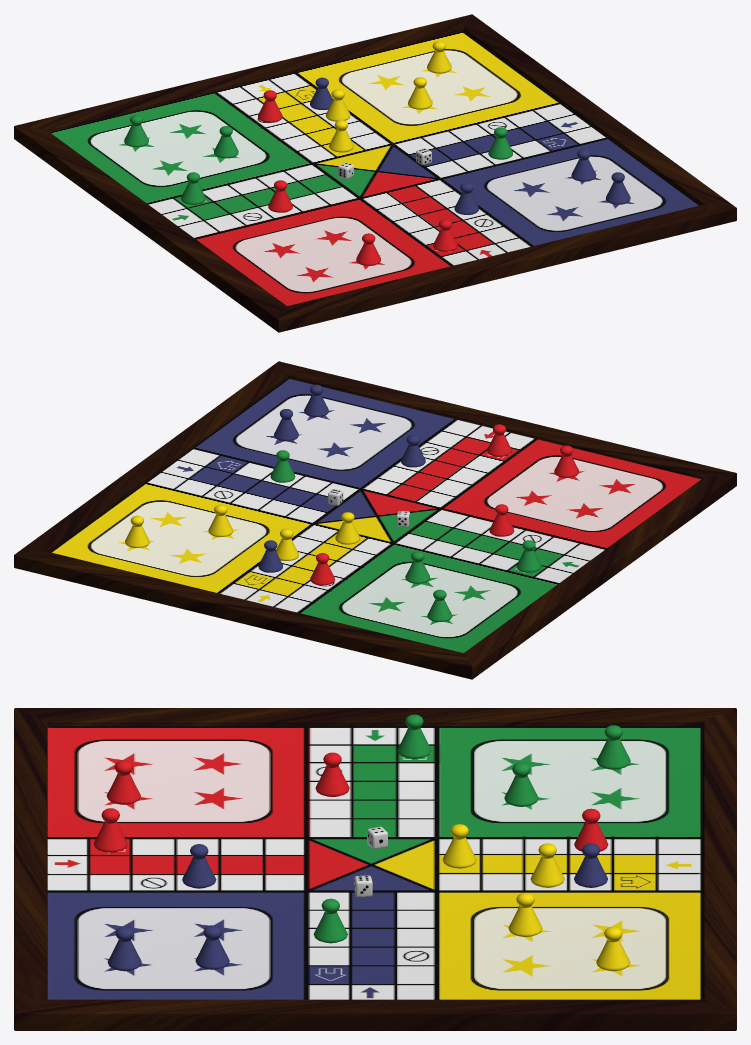
The model's file is 3d_ludo_adventure_roll_into_a_vibrant_world.glb.
The picture shows the model from 3 angles, top to bottom: view 1: azimuth 30°, elevation 25°; view 2: azimuth 150°, elevation 25°; view 3: azimuth 270°, elevation 25°; orthographic projection. The views are drawn at different scales.
Parts seen in each view (by area): view 1: Board Baked, Pawn.005, Pawn.002, Pawn.012, Pawn.013, Pawn.001, Pawn.007, Pawn.009, Pawn.004, Pawn.010, Pawn.016, Pawn.008 (+4 smaller); view 2: Board Baked, Pawn.008, Pawn.005, Pawn.010, Pawn.011, Pawn.014, Pawn.009, Pawn.016, Pawn.001, Pawn.004, Pawn.007, Pawn.013 (+4 smaller); view 3: Board Baked, Pawn.009, Pawn.011, Pawn.016, Pawn.014, Pawn.006, Pawn.007, Pawn.001, Pawn.004, Pawn.012, Pawn.002, Pawn.005 (+5 smaller).
Part boxes in pixels (x1,y1,x2,y2): Board Baked: (14,14,736,332); Pawn.005: (181,172,205,204); Pawn.002: (571,149,596,181); Pawn.012: (214,126,238,158); Pawn.013: (427,41,451,73); Pawn.001: (454,182,479,214); Pawn.007: (268,180,292,212); Pawn.009: (433,219,457,251); Pawn.004: (356,233,380,265); Pawn.010: (488,127,512,159); Pawn.016: (329,120,353,152); Pawn.008: (258,90,282,122); Board Baked: (14,361,736,679); Pawn.008: (310,553,334,585); Pawn.005: (516,540,541,572); Pawn.010: (270,450,295,482); Pawn.011: (427,589,452,622); Pawn.014: (208,504,233,537); Pawn.009: (487,424,511,456); Pawn.016: (335,512,360,544); Pawn.001: (401,435,425,467); Pawn.004: (554,445,578,477); Pawn.007: (489,504,514,536); Pawn.013: (125,515,149,548); Board Baked: (14,708,736,1030); Pawn.009: (93,808,127,852); Pawn.011: (596,725,630,769); Pawn.016: (442,824,476,868); Pawn.014: (508,892,542,937); Pawn.006: (530,843,564,887); Pawn.007: (315,752,349,796); Pawn.001: (182,844,216,888); Pawn.004: (106,760,140,804); Pawn.012: (504,762,538,806); Pawn.002: (195,925,229,969); Pawn.005: (397,714,431,758).
Size of the model in its own units: 0.6708 by 0.0522 by 0.6708.
4 materials, 4 textured.
